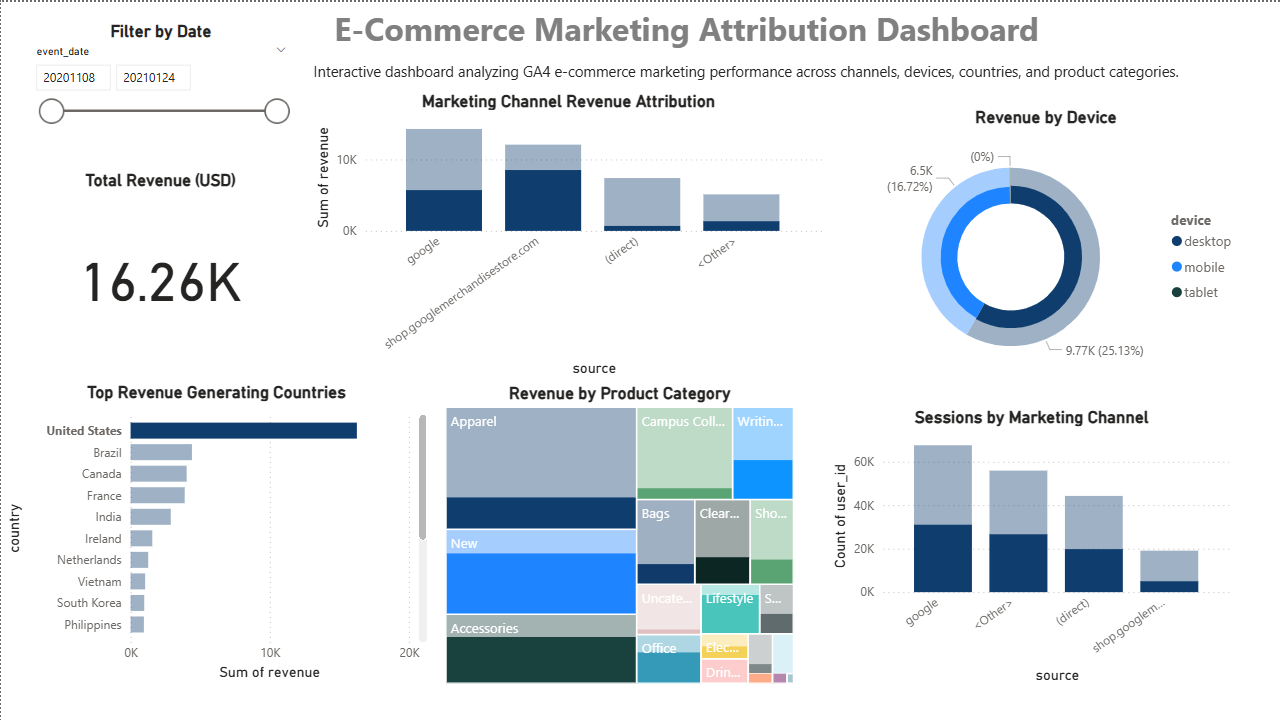

The dashboard page shown, as its layout file describes it:
{"tool":"powerbi","page":{"name":"Page 1","canvas":[1280,720],"ordinal":0},"visuals":[{"type":"textbox","box":[215.6,0,941.1,53.3],"z":0},{"type":"columnChart","title":"Marketing Channel Revenue Attribution","fields":{"Y":["Sum(ga4_ecommerce_data.revenue)"],"Category":["ga4_ecommerce_data.source"]},"box":[308.9,88.9,517.8,291.1],"z":1000},{"type":"textbox","box":[0,140,300,165],"z":2000},{"type":"donutChart","title":"Revenue by Device","fields":{"Category":["ga4_ecommerce_data.device"],"Y":["Sum(ga4_ecommerce_data.revenue)"]},"box":[844.4,105.6,400,281.1],"z":3000},{"type":"clusteredBarChart","title":"Top Revenue Generating Countries","fields":{"Category":["ga4_ecommerce_data.country"],"Y":["Sum(ga4_ecommerce_data.revenue)"]},"box":[0,380,431.1,303.3],"z":5000},{"type":"treemap","title":"Revenue by Product Category","fields":{"Group":["ga4_ecommerce_data.product_category"],"Values":["Sum(ga4_ecommerce_data.revenue)"]},"box":[439.7,380.8,357.7,305.1],"z":6000},{"type":"card","title":"Total Revenue (USD)","fields":{"Values":["Sum(ga4_ecommerce_data.revenue)"]},"box":[31.2,167.5,256.2,192.5],"z":8500},{"type":"textbox","box":[307.8,53.3,881.1,35.6],"z":8501},{"type":"clusteredColumnChart","title":"Sessions by Marketing Channel","fields":{"Category":["ga4_ecommerce_data.source"],"Y":["CountNonNull(ga4_ecommerce_data.user_id)"]},"box":[826.7,405.6,408.9,281.1],"z":8502},{"type":"slicer","title":"Filter by Date","fields":{"Values":["ga4_ecommerce_data.event_date"]},"box":[22.5,18.8,275,105],"z":8503}]}

Visuals, with their boxes in screenshot pixels (x1, y1, x2, y2), scaled from the page's 1280x720 canvas onto the 1281x720 screenshot:
textbox: l=216, t=0, r=1158, b=53
"Marketing Channel Revenue Attribution" columnChart: l=309, t=89, r=827, b=380
textbox: l=0, t=140, r=300, b=305
"Revenue by Device" donutChart: l=845, t=106, r=1245, b=387
"Top Revenue Generating Countries" clusteredBarChart: l=0, t=380, r=431, b=683
"Revenue by Product Category" treemap: l=440, t=381, r=798, b=686
"Total Revenue (USD)" card: l=31, t=168, r=288, b=360
textbox: l=308, t=53, r=1190, b=89
"Sessions by Marketing Channel" clusteredColumnChart: l=827, t=406, r=1237, b=687
"Filter by Date" slicer: l=23, t=19, r=298, b=124
